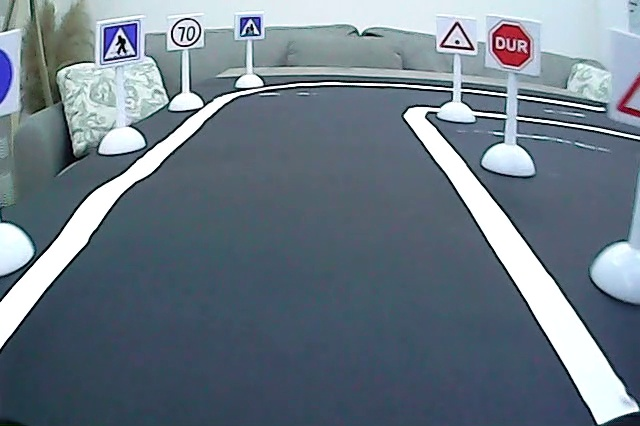green light: (438, 20, 476, 53)
pedestrian crossing: (98, 20, 141, 63)
school crossing: (238, 14, 263, 38)
speed limit 70: (170, 16, 203, 49)
stop sign: (487, 19, 535, 72)
